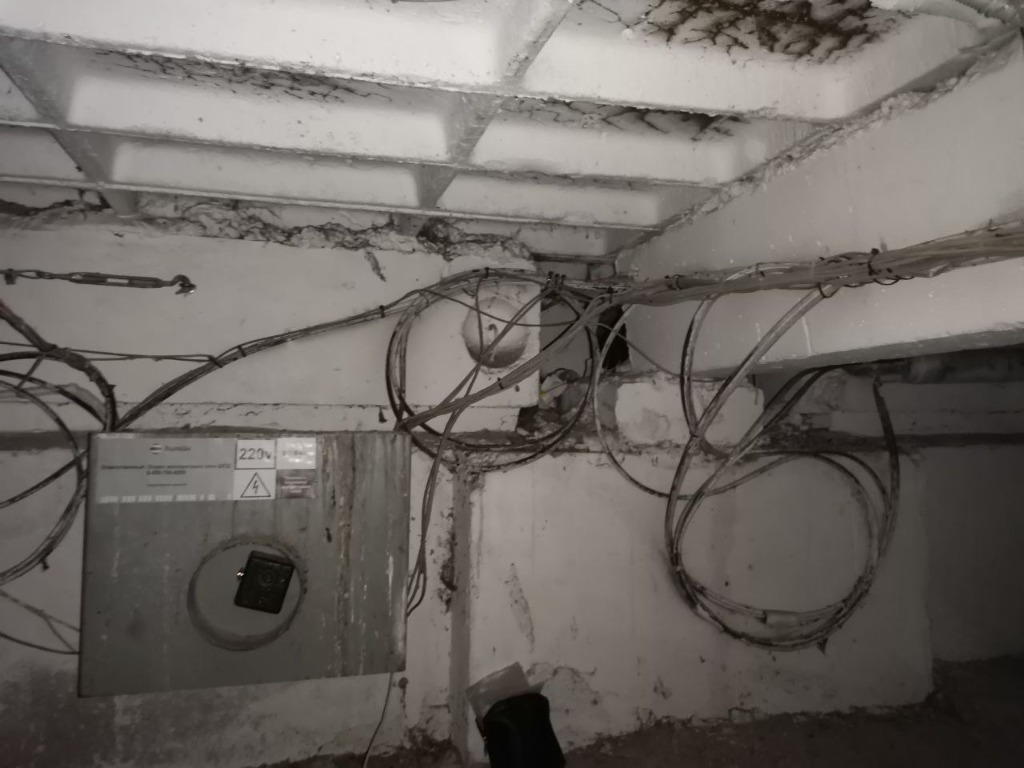shta-3: (77, 427, 413, 699)
